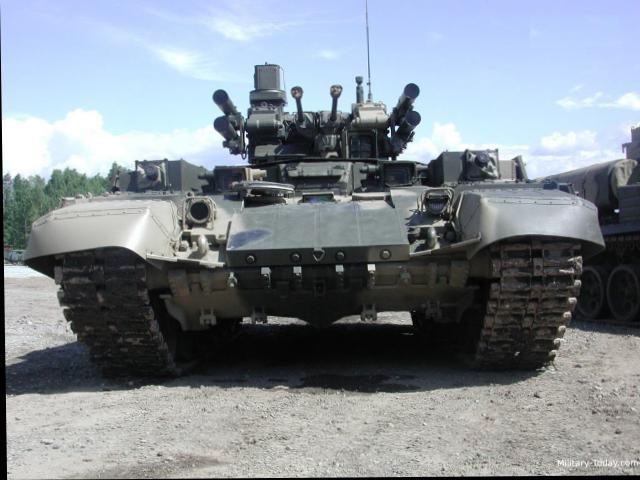tank: (39, 105, 607, 397)
